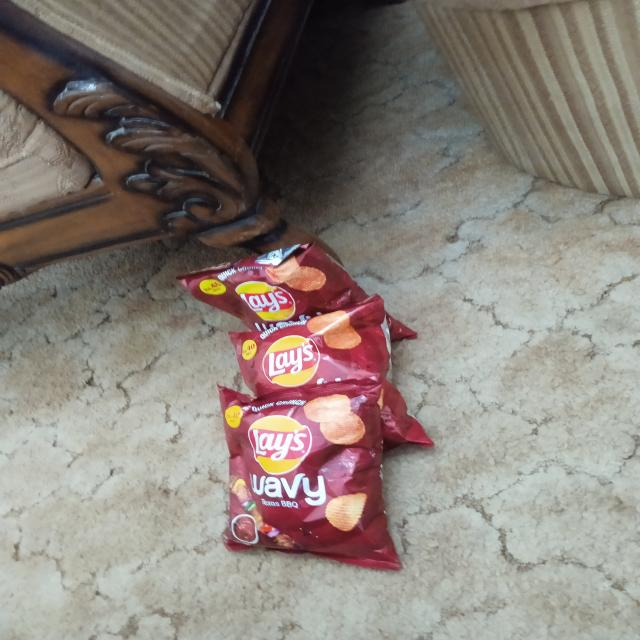Plastic: (221, 392, 398, 571), (178, 243, 358, 326), (236, 326, 392, 386)
